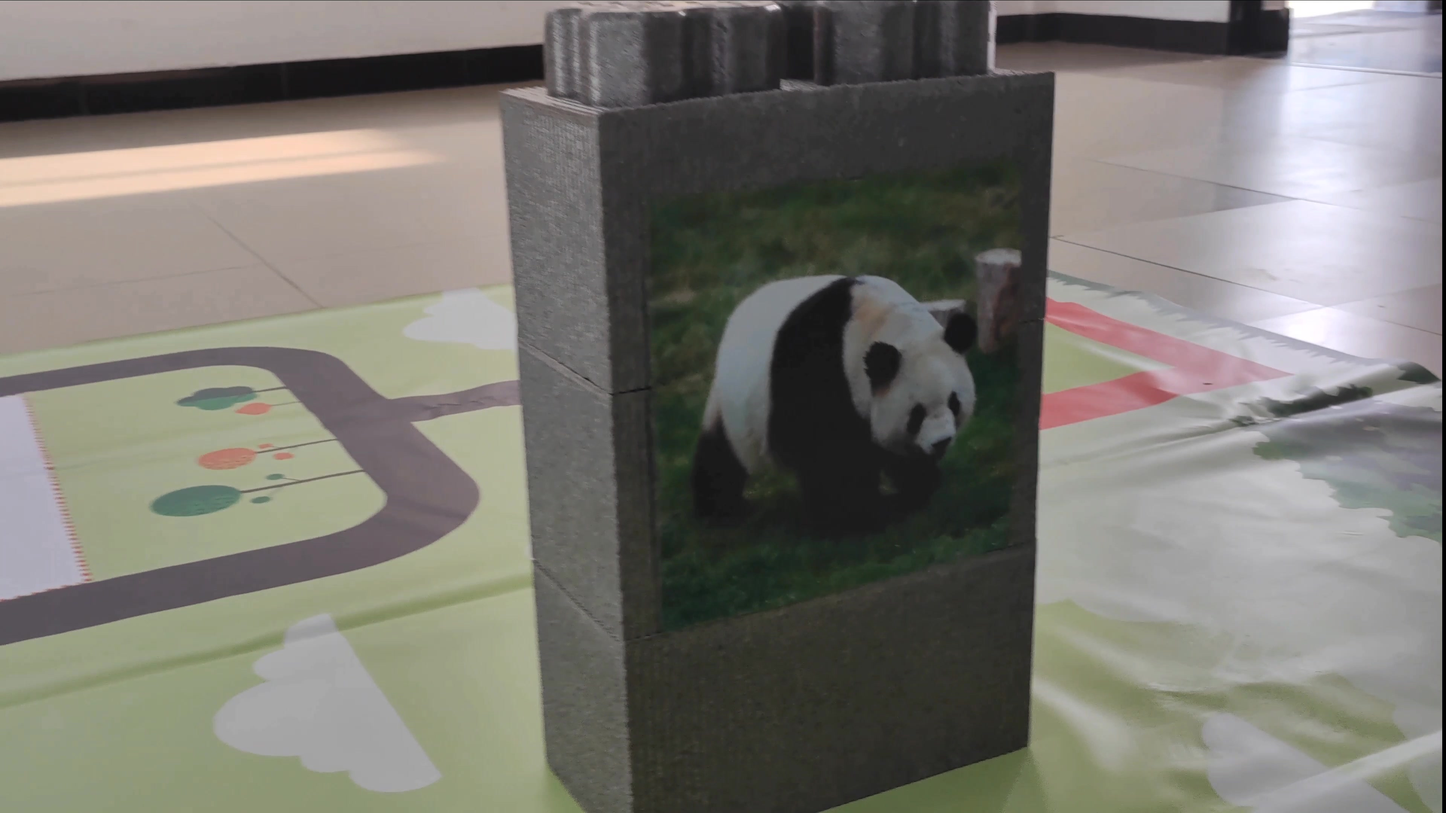panda: (671, 243, 993, 519)
